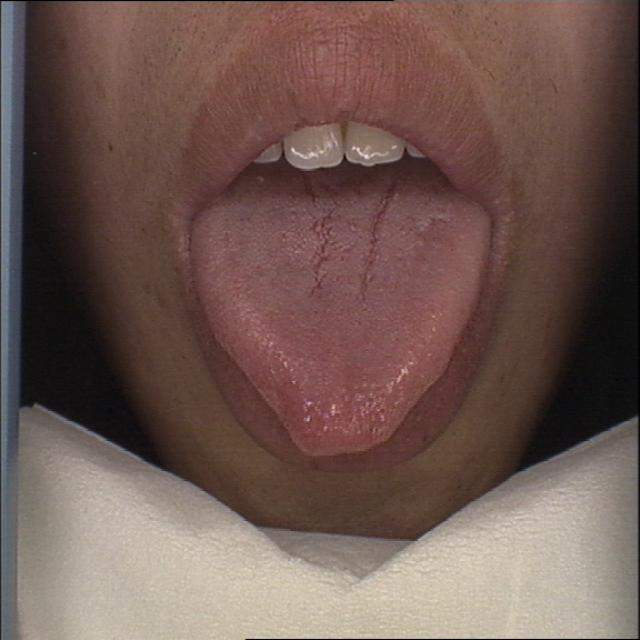tongue: (185, 179, 498, 462)
